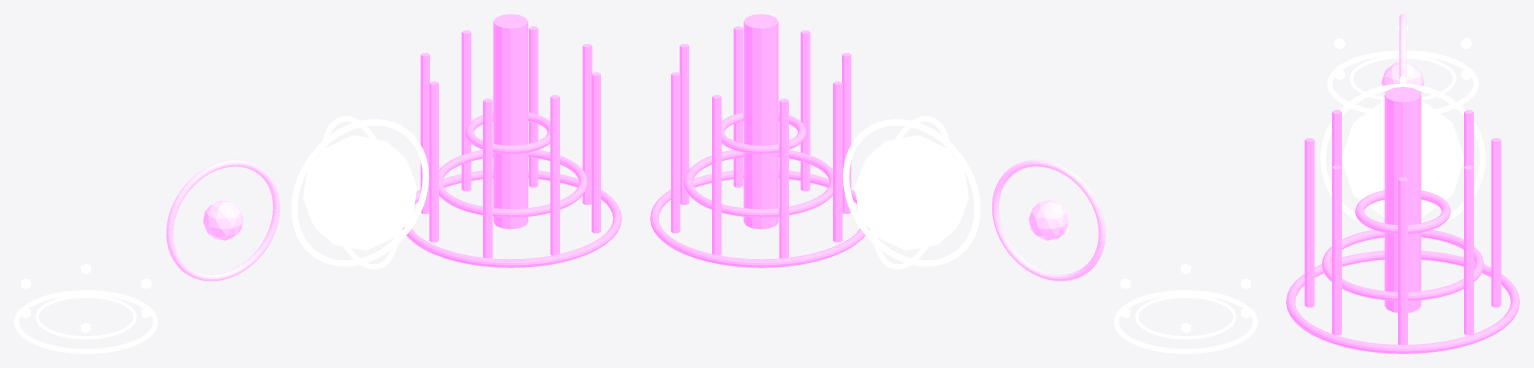
File: elin_skills_vfx.glb
The picture shows the model from 3 angles, left to right: view 1: azimuth 30°, elevation 25°; view 2: azimuth 150°, elevation 25°; view 3: azimuth 270°, elevation 25°; orthographic projection. The views are drawn at different scales.
Parts seen in each view (by area): view 1: VFX_Ultimate, VFX_Skill_2, VFX_Skill_1, VFX_Passive; view 2: VFX_Ultimate, VFX_Skill_2, VFX_Skill_1, VFX_Passive; view 3: VFX_Ultimate, VFX_Skill_2, VFX_Passive, VFX_Skill_1.
Boxes of the visible parts, box(x1,y1,x2,y2) form: VFX_Ultimate: box(402, 14, 621, 267); VFX_Skill_2: box(291, 116, 428, 269); VFX_Skill_1: box(166, 159, 279, 281); VFX_Passive: box(14, 263, 158, 353); VFX_Ultimate: box(650, 14, 869, 267); VFX_Skill_2: box(843, 116, 980, 269); VFX_Skill_1: box(992, 159, 1105, 281); VFX_Passive: box(1113, 263, 1257, 353); VFX_Ultimate: box(1286, 87, 1519, 353); VFX_Skill_2: box(1320, 76, 1485, 225); VFX_Passive: box(1327, 24, 1478, 113); VFX_Skill_1: box(1381, 14, 1424, 93).
Bounding box in the file's own units: 8.55 × 2.88 × 2.81.
